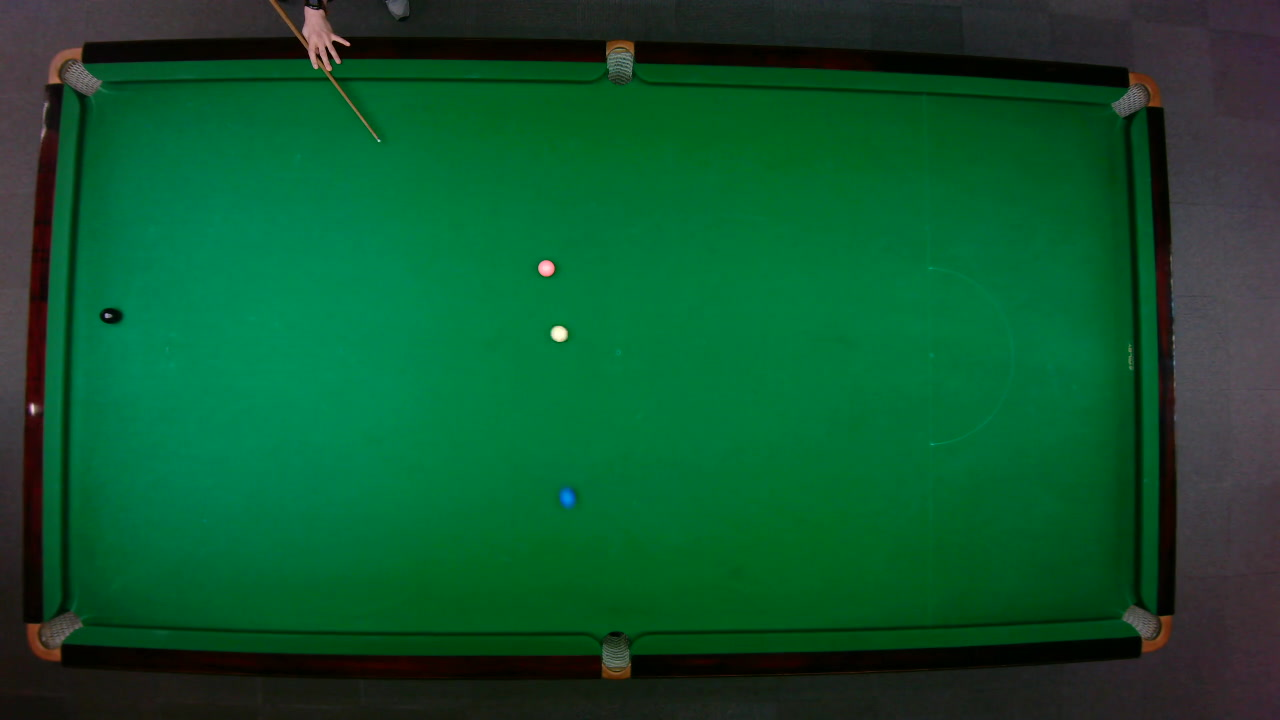bag: (25, 609, 84, 661), (45, 46, 102, 96), (1119, 603, 1172, 652), (1108, 71, 1161, 118), (600, 629, 629, 680), (605, 38, 633, 85)
black: (98, 306, 120, 324)
blue: (558, 486, 576, 508)
cue: (264, 1, 383, 146)
pink: (536, 258, 555, 277)
white: (548, 323, 568, 342)
zone: (927, 266, 1013, 445)
